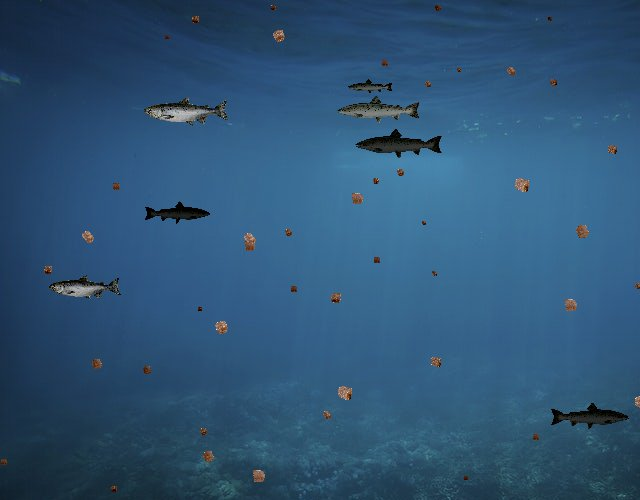Fish: (355, 127, 445, 160), (336, 94, 422, 125), (144, 96, 230, 127), (549, 401, 630, 430), (49, 275, 122, 301), (144, 200, 212, 225), (348, 78, 395, 95)
Pellet: (245, 463, 272, 490), (345, 186, 370, 211), (501, 61, 521, 81), (187, 11, 204, 28), (369, 253, 384, 267), (454, 64, 464, 75)
